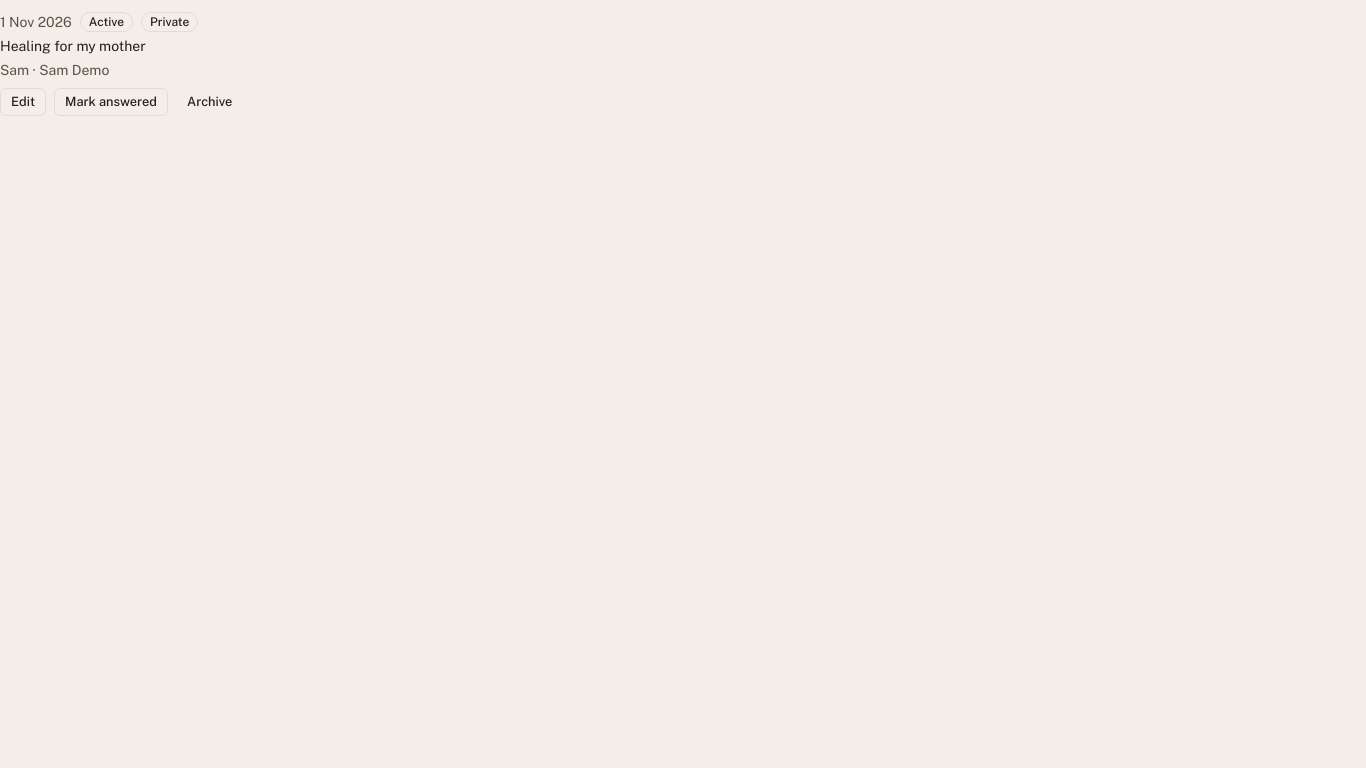
Test: PrayerRequestList › Edit opens a dialog and saves with expectedUpdatedAt, then shows the success message
Click the button "Edit".
click(23, 102)  # box [0,88,46,116]
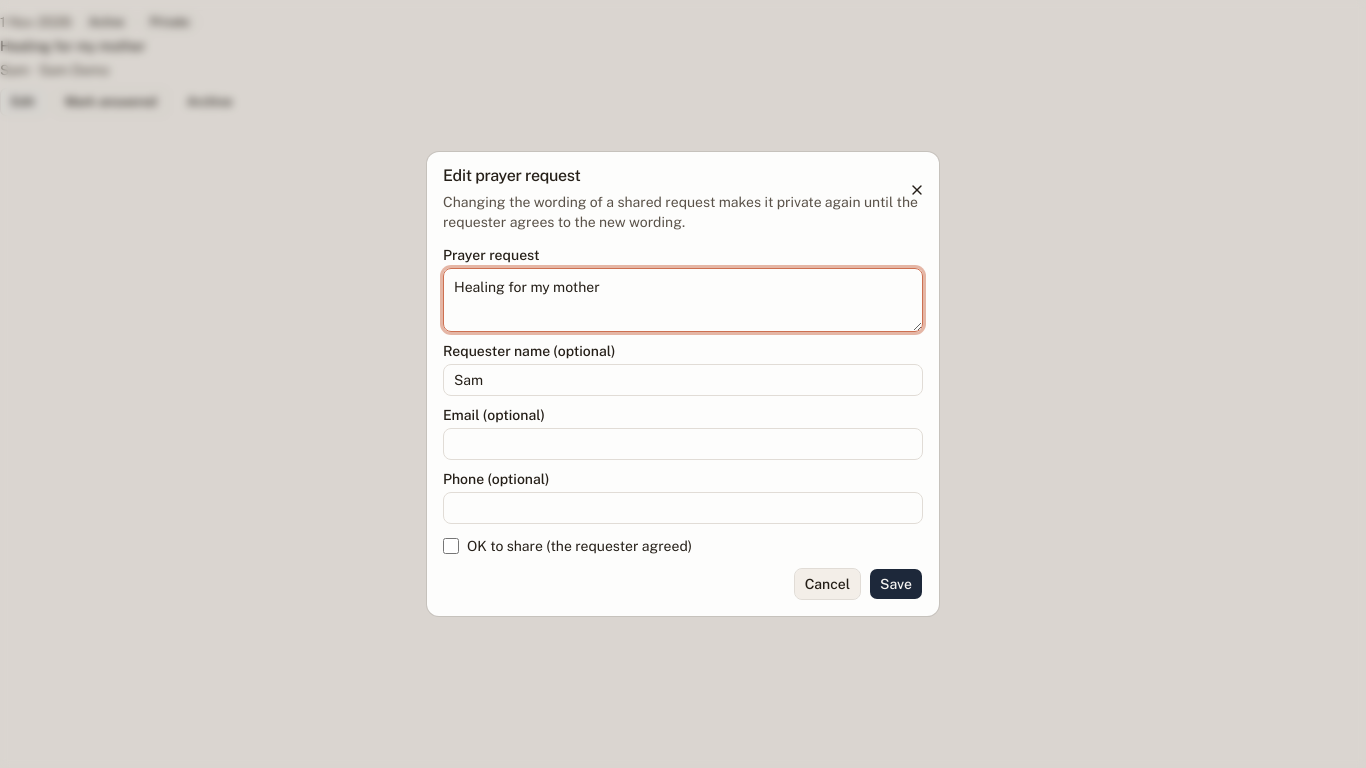
Replace the text in the text box labelled "Prayer request" with "Healing for my father" at (683, 300), box [443,268,923,332]
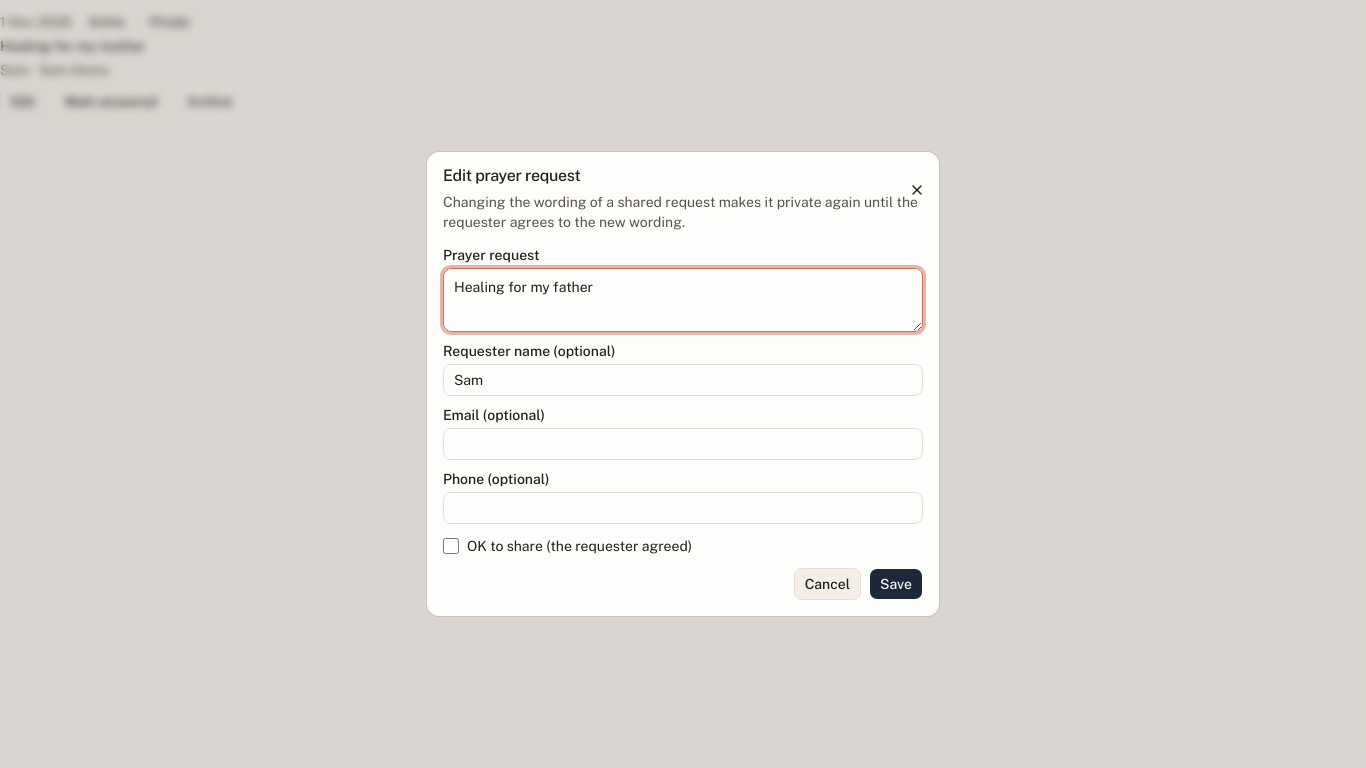
Type "s@x.com" into the field labelled "Email (optional)".
click(683, 444); type("s@x.com")  # box [443,428,923,460]
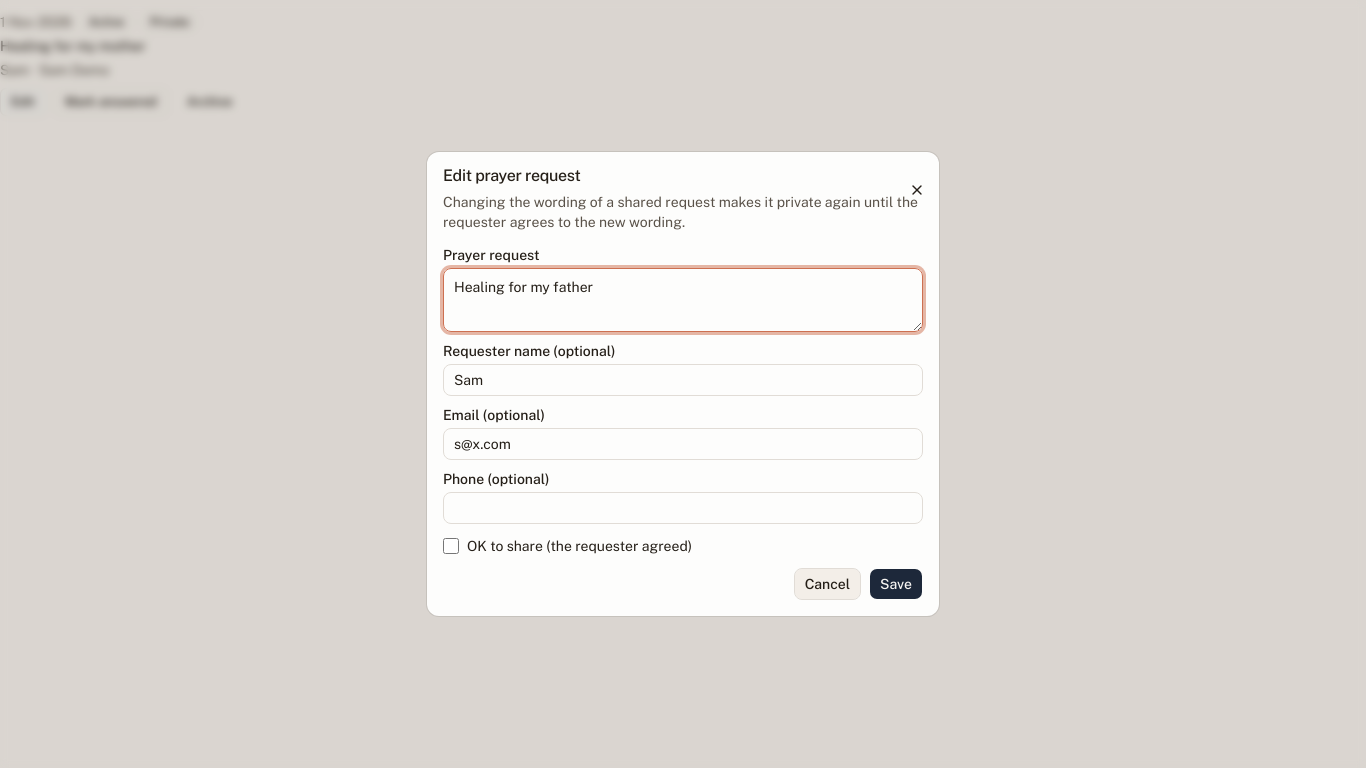
Click the button "Save".
click(896, 584)  # box [869,568,923,600]
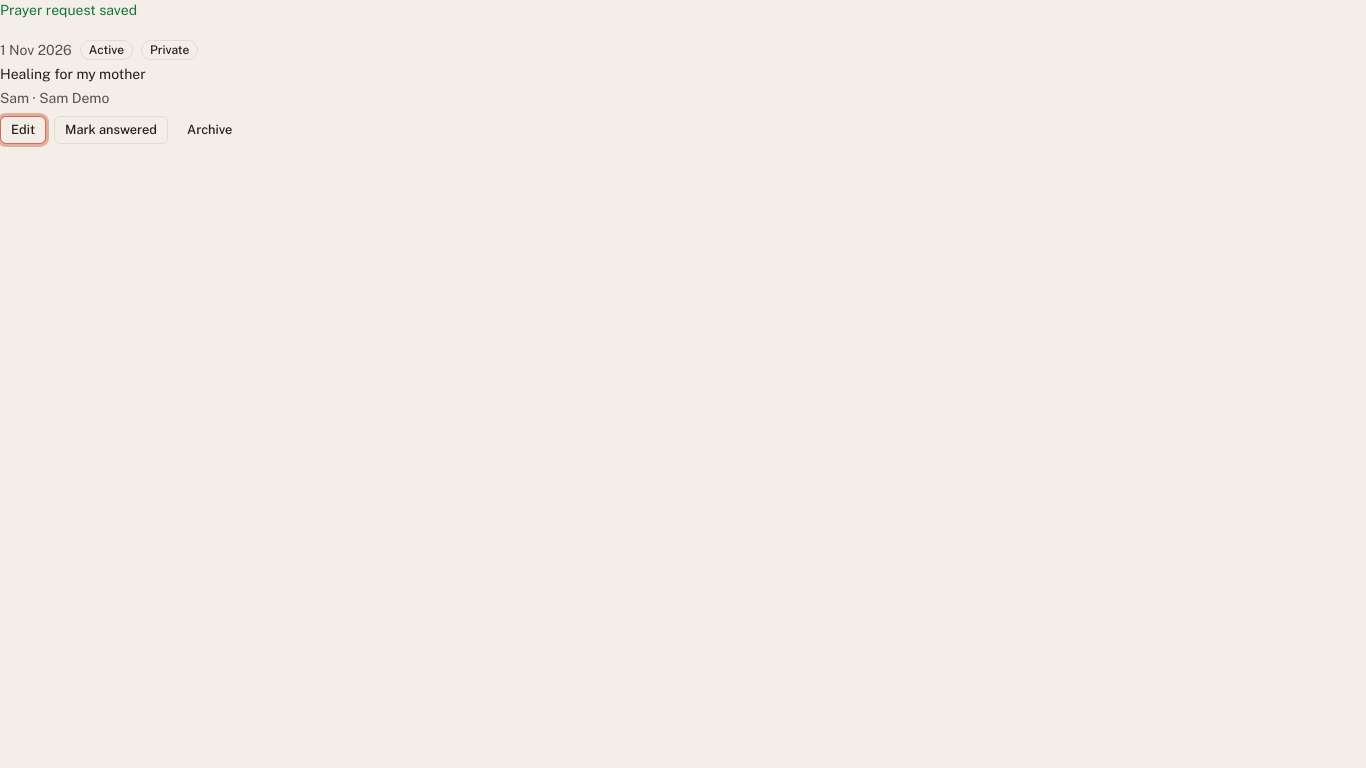
Expected: the text "Prayer request saved" is shown, [0,2,137,18]
Expected: the dialog is gone
